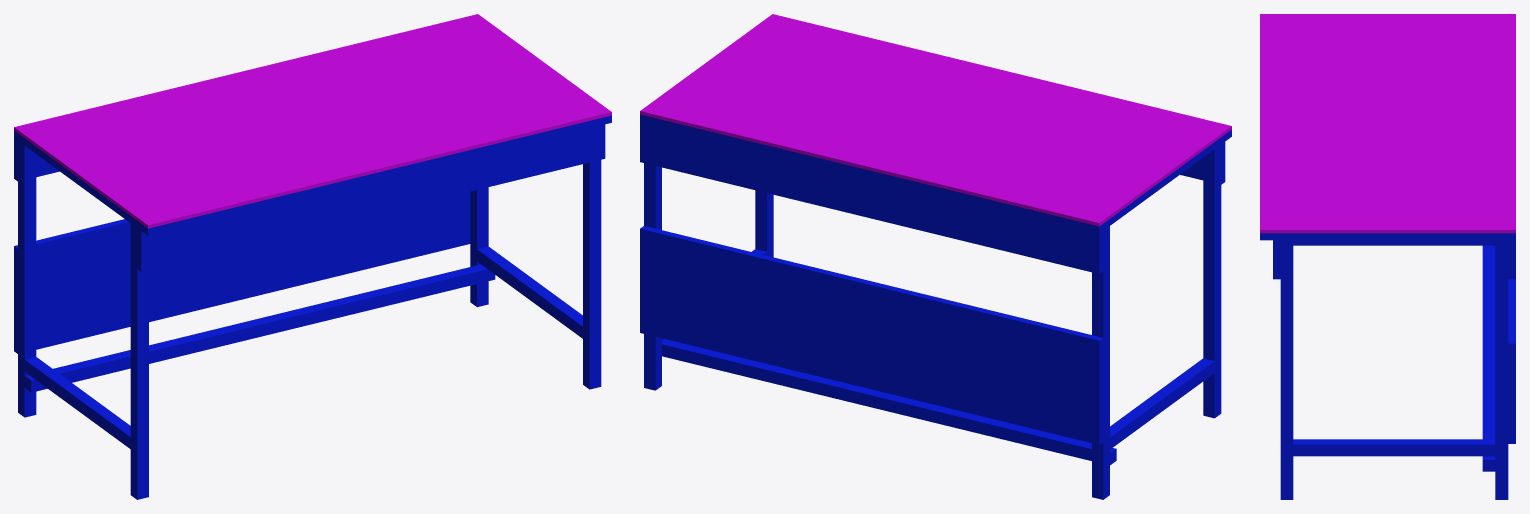
Rendered from PH_PAILLACE - Copy.fbx.
The picture shows the model from 3 angles, left to right: view 1: azimuth 30°, elevation 25°; view 2: azimuth 150°, elevation 25°; view 3: azimuth 270°, elevation 25°; orthographic projection. The views are drawn at different scales.
Parts seen in each view (by area): view 1: Cube.014; view 2: Cube.014; view 3: Cube.014.
Boxes of the visible parts, left/top/right/bottom form: Cube.014: left=14, top=14, right=611, bottom=499; Cube.014: left=640, top=14, right=1231, bottom=499; Cube.014: left=1260, top=14, right=1515, bottom=499.
Bounding box in the file's own units: 200 × 116 × 100.
